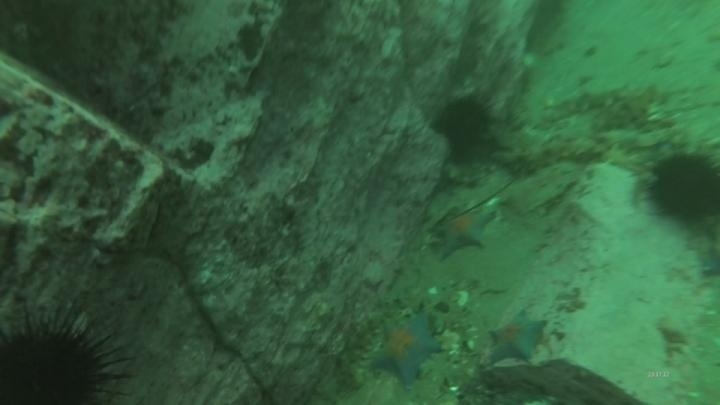echinus: (0, 303, 135, 404), (643, 147, 720, 228), (431, 92, 496, 156)
holothurian: (537, 78, 663, 123), (495, 133, 606, 180), (337, 314, 382, 392)
starfish: (366, 310, 444, 389), (429, 203, 498, 262), (483, 308, 549, 368)
